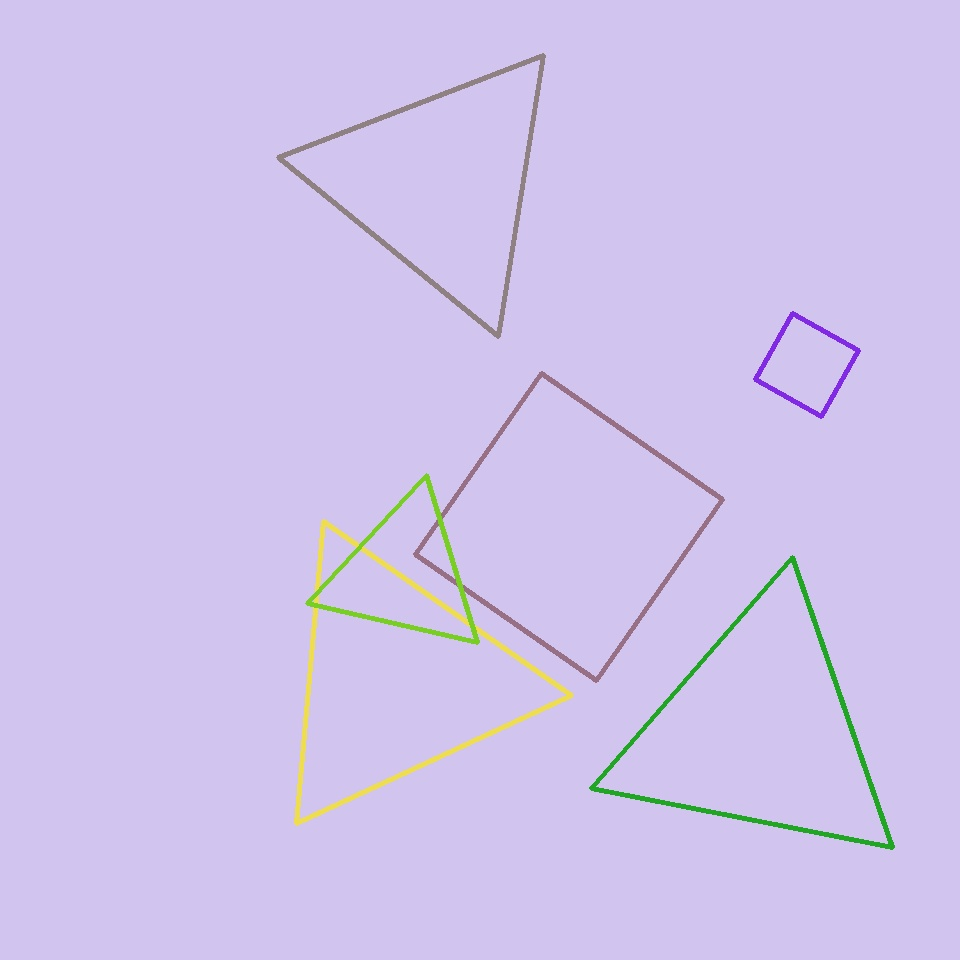circle: (608, 586, 910, 876), (259, 529, 534, 831), (308, 42, 572, 324), (319, 491, 489, 657)
square: (415, 374, 722, 680), (756, 314, 858, 416)
